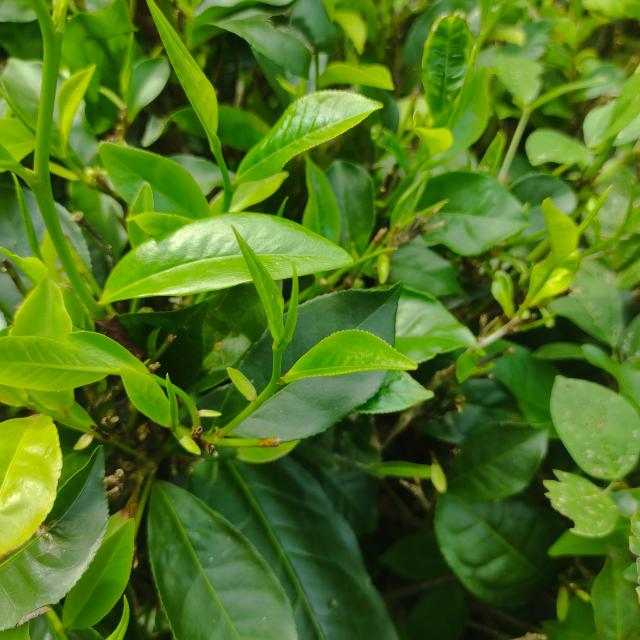unopened_leaf: (573, 179, 640, 261), (8, 163, 53, 270), (558, 180, 616, 256), (272, 255, 303, 354), (94, 587, 142, 640), (158, 365, 182, 441)
